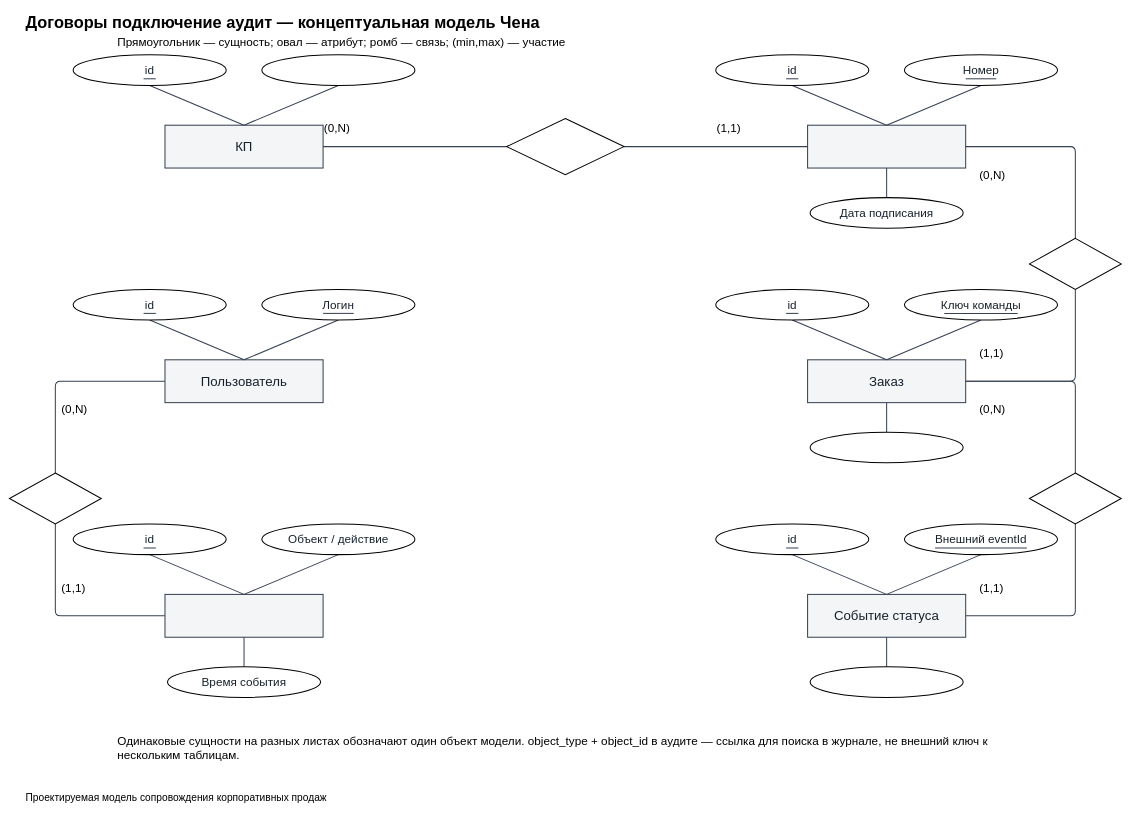
Some shapes in this 1130 by 813 pixel diagram are drawn without their labels. The centre of each missing label's shape, as x and y in pixels:
"Договор" belongs at [886,146].
"основание" belongs at [565,146].
"получает" belongs at [1075,498].
"Полученный статус" belongs at [886,682].
"порождает" belongs at [1075,264].
"Событие аудита" belongs at [243,616].
"совершает" belongs at [55,498].
"Состояние" belongs at [338,70].
"Статус" belongs at [886,447].
